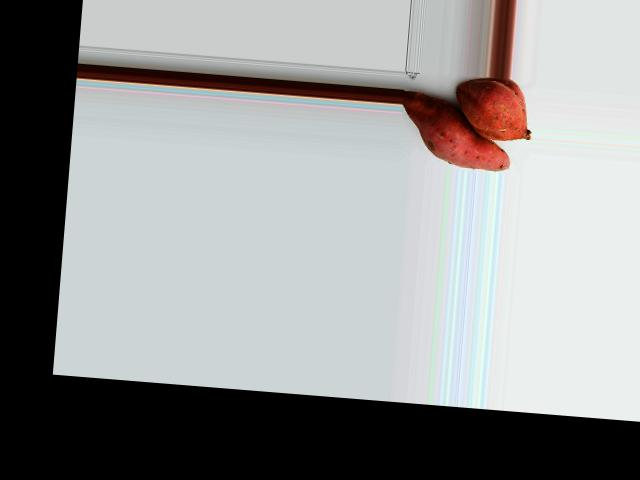sweet_potato: (457, 83, 535, 137)
